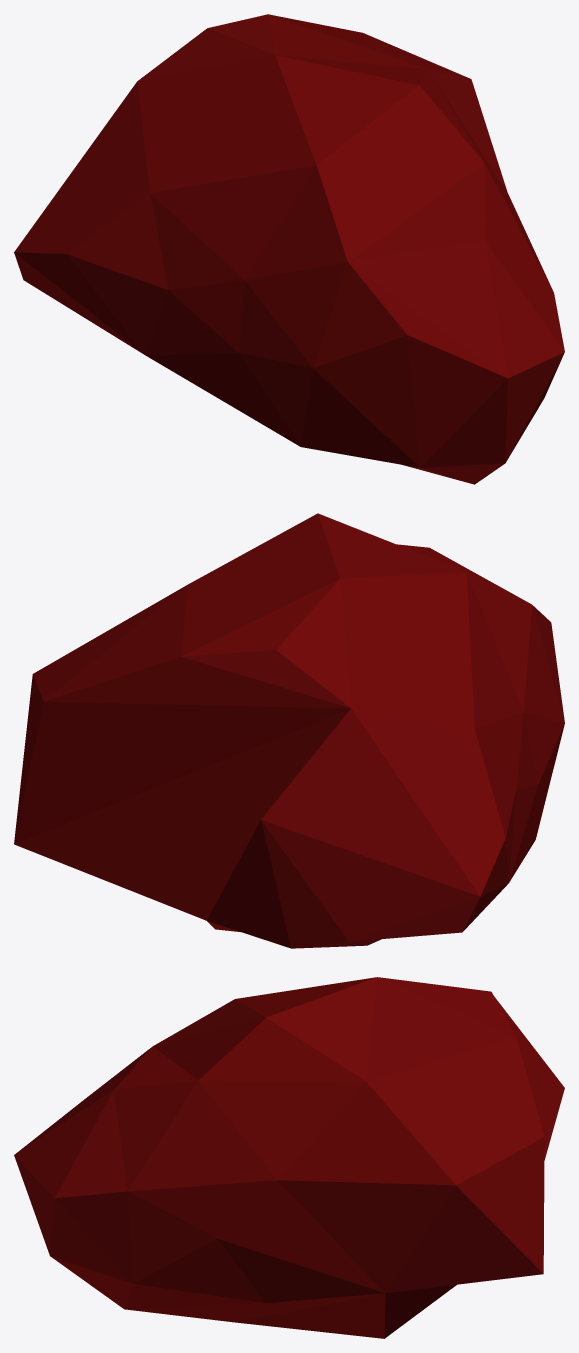
The model's file is 54-IMD-intermediodorsal thalamic nucleus-('0.4980', '0.0000', '0.0000').obj.
3 renders of one model, top to bottom at view 1: azimuth 30°, elevation 25°; view 2: azimuth 150°, elevation 25°; view 3: azimuth 270°, elevation 25°, orthographic. The views are drawn at different scales.
Size of the model in its own units: 13.94 by 11.07 by 16.99.
